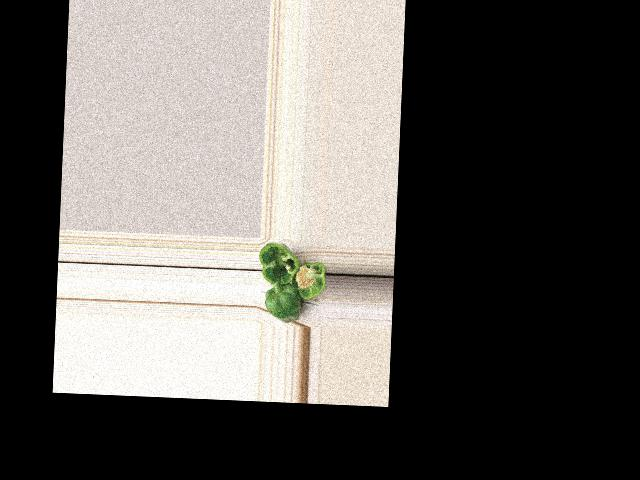bell_pepper: (292, 253, 326, 303)
